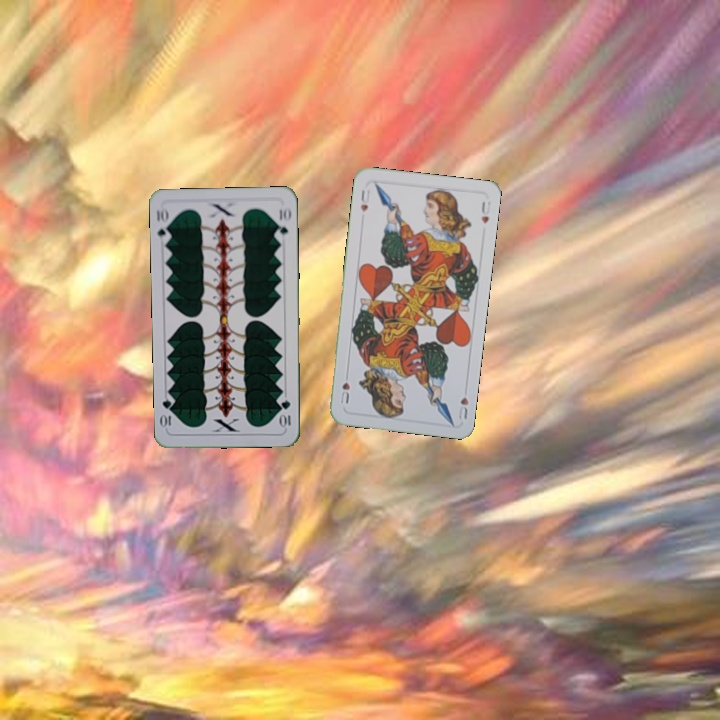G10: (152, 204, 173, 244), (278, 396, 293, 430)
HU: (454, 393, 471, 422), (356, 186, 372, 215)
